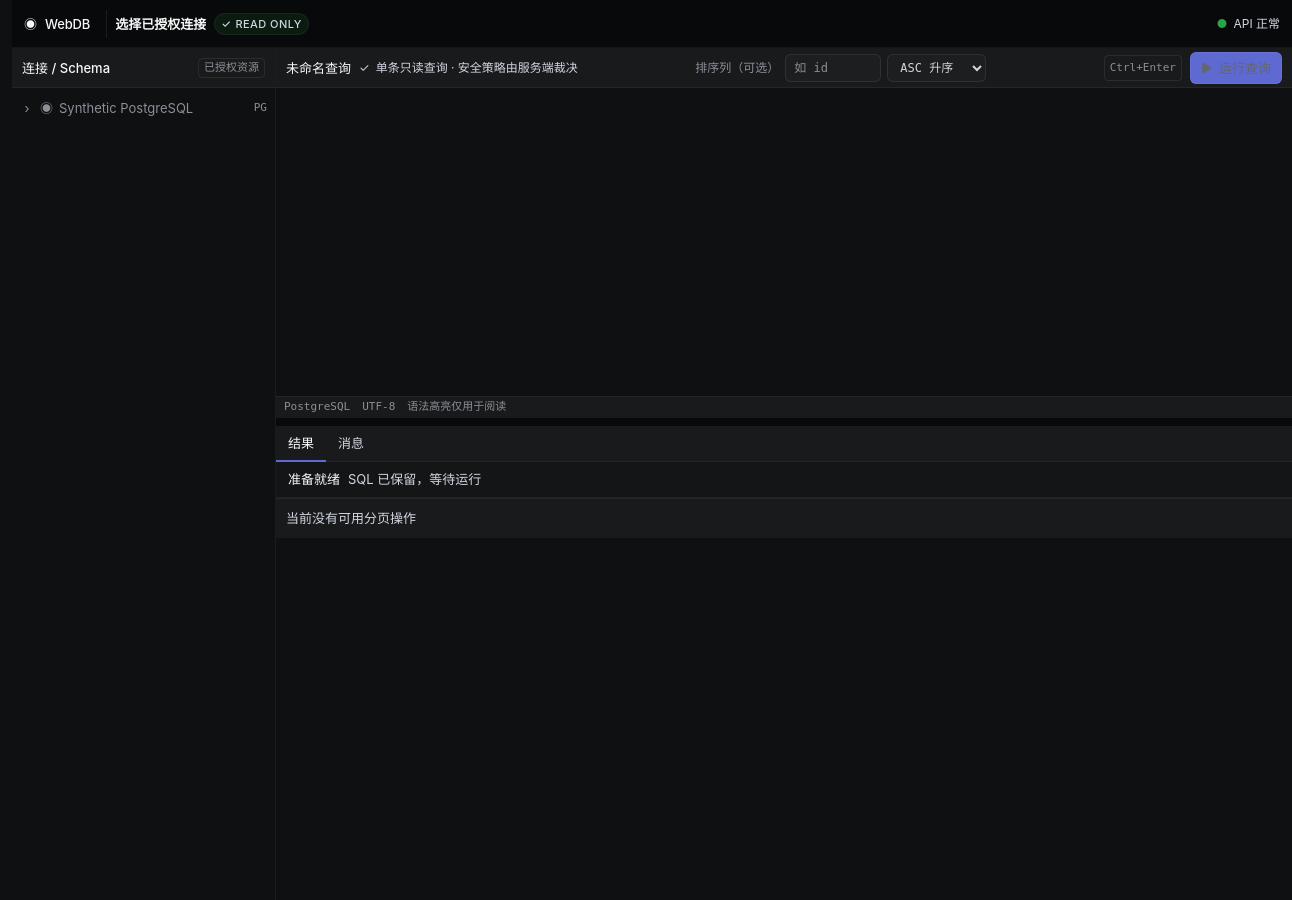
Test case: P0 workbench › retains already audited results when a later page fails without withholding them
The width and height of the screenshot is (1292, 900).
Click the list item "› ◉ Synthetic PostgreSQL PG": click(144, 108) [12,94,275,122]
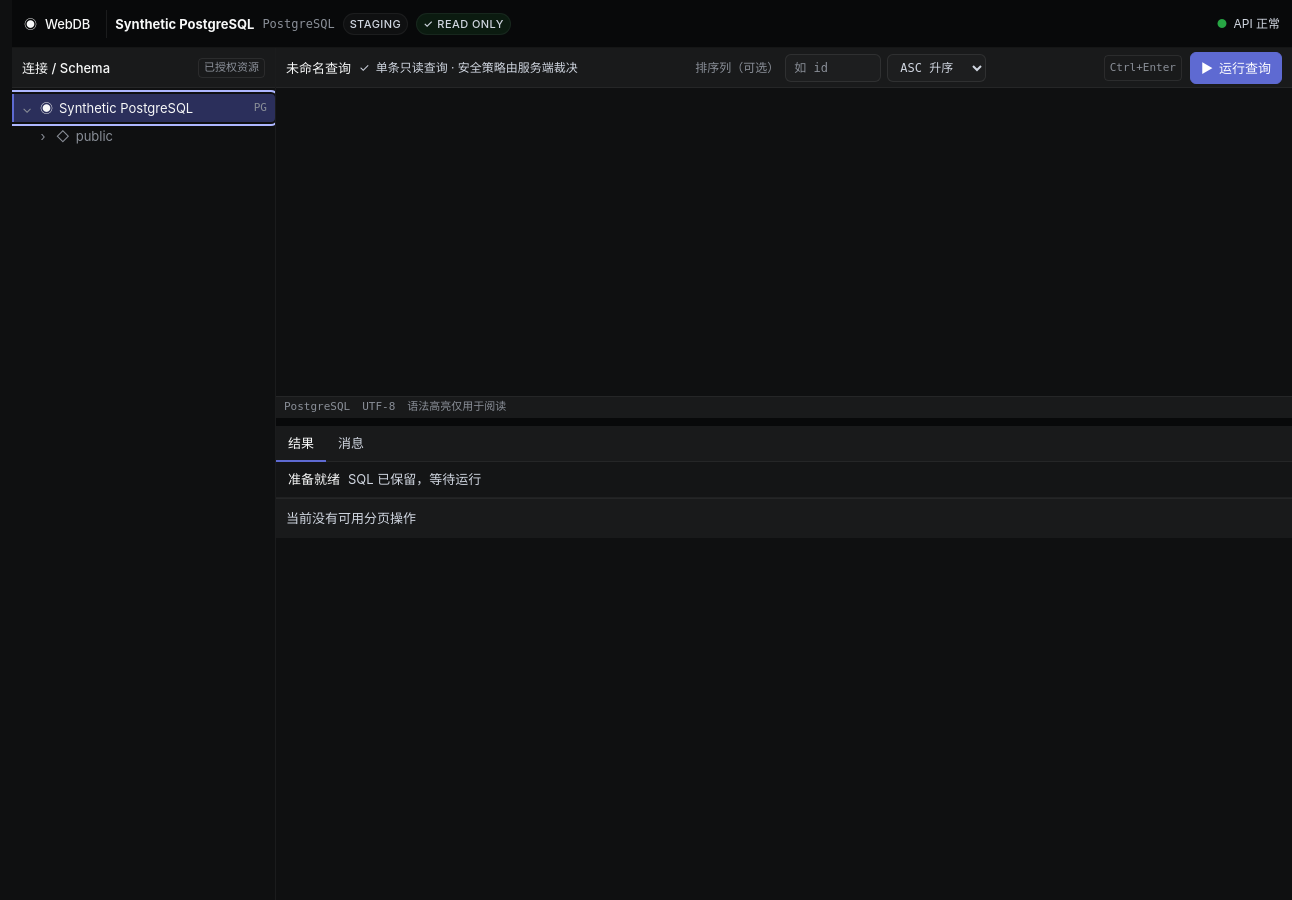
Click the button "▶ 运行查询": click(1236, 68) [1190,52,1282,84]
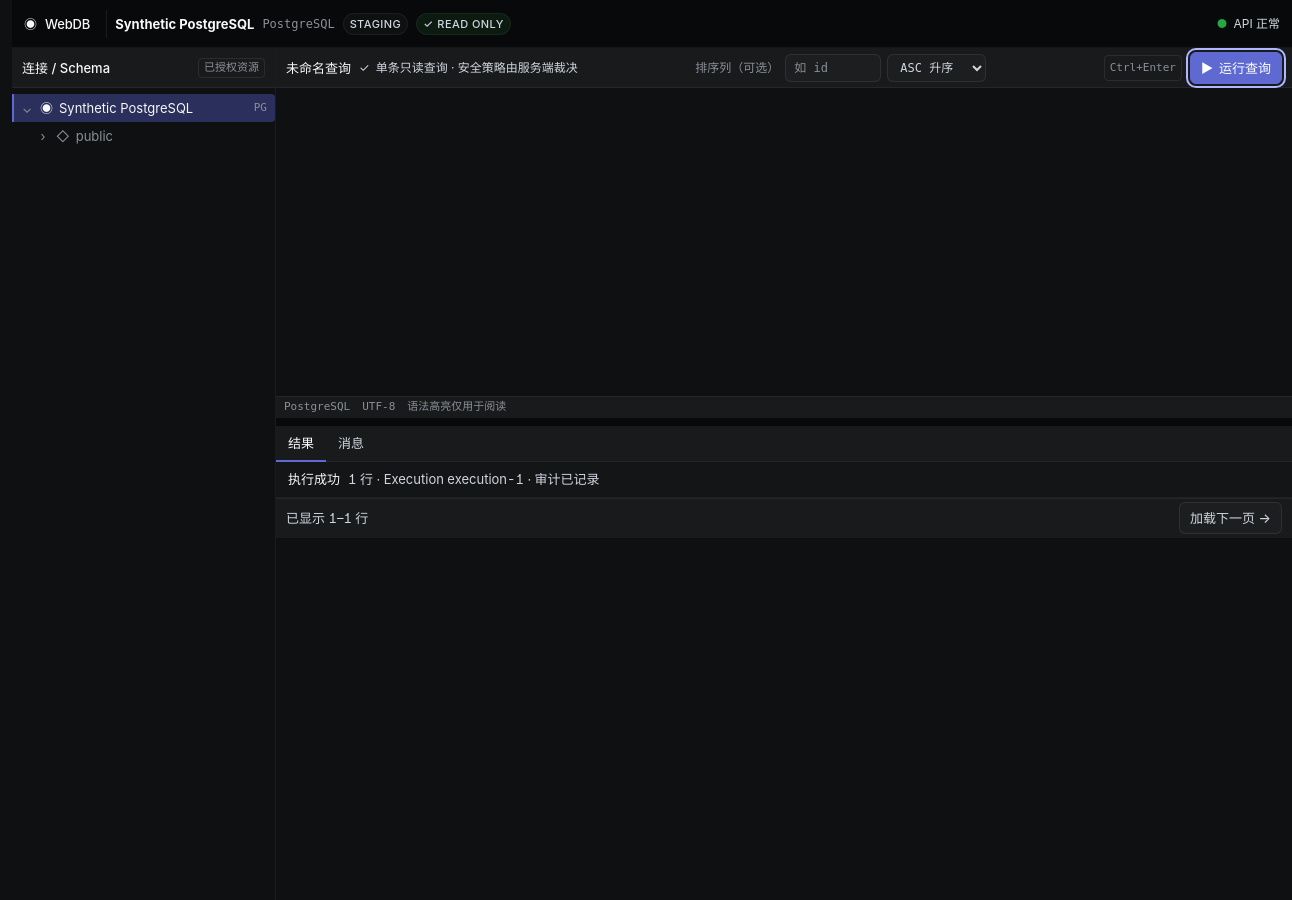
Click the button "加载下一页 →": click(1231, 518) [1179,502,1282,534]
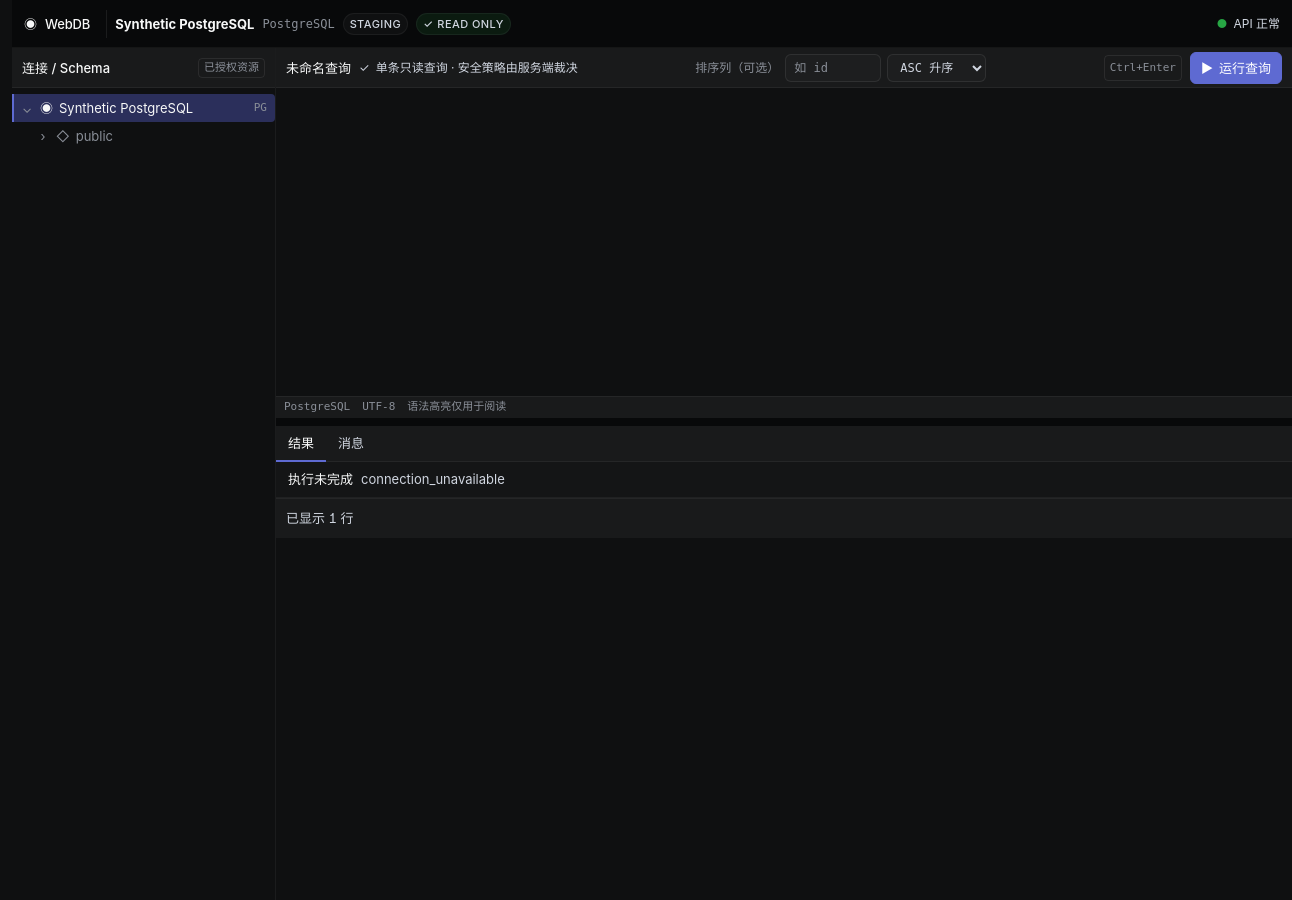
expect the text "已显示 1 行" is shown: met, box [286,508,353,528]
